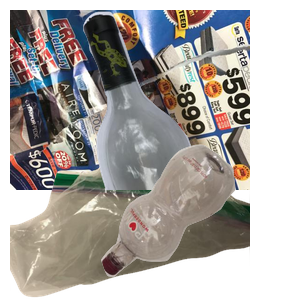glass: (81, 10, 300, 190)
paper: (10, 10, 250, 190)
plastic: (99, 142, 300, 300)
trash: (10, 134, 250, 300)
